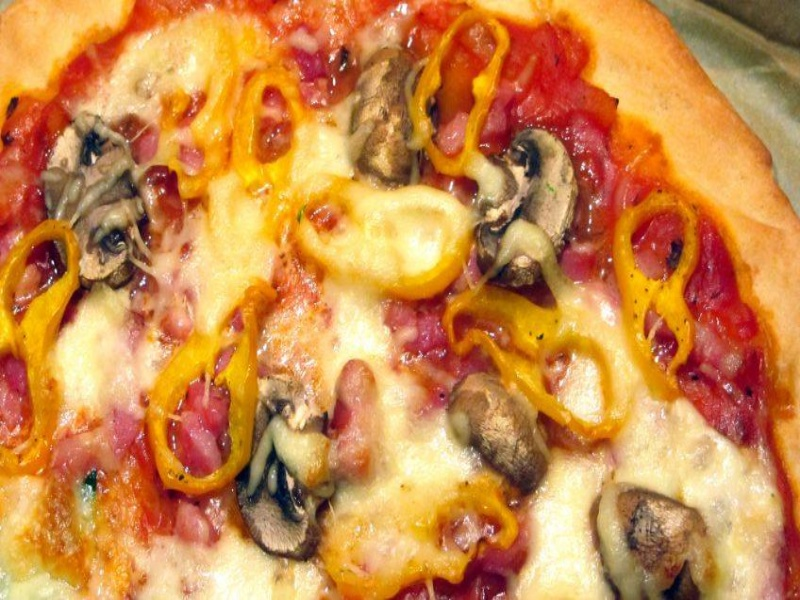champignon: (217, 368, 353, 566), (33, 115, 159, 291), (466, 120, 578, 290)
